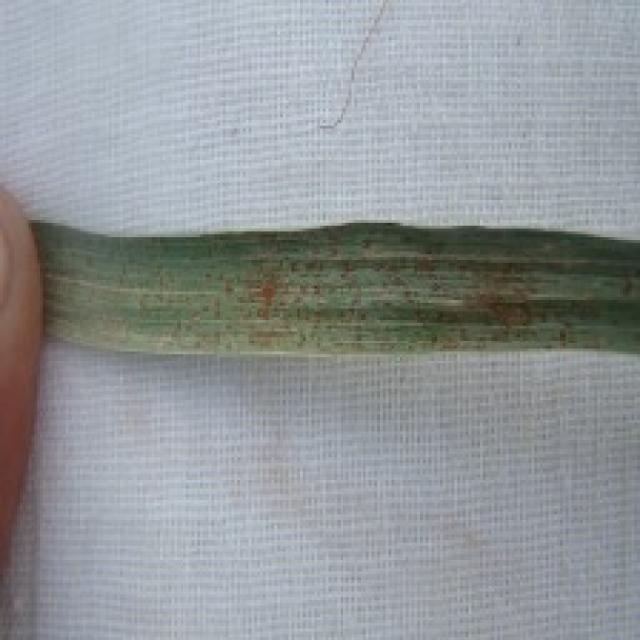Brown_Spot: (457, 284, 545, 340), (346, 248, 442, 276), (244, 270, 290, 322), (329, 303, 396, 328), (456, 258, 532, 276)
